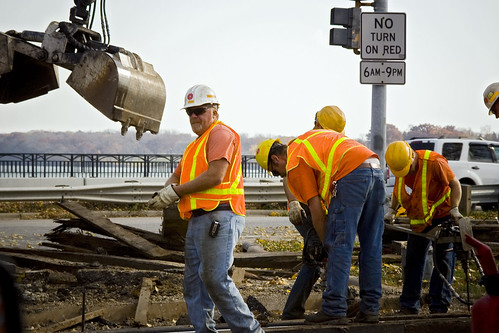person hardhat: (152, 75, 264, 329), (255, 130, 395, 329), (286, 100, 360, 321), (387, 130, 459, 324), (459, 76, 499, 131)
